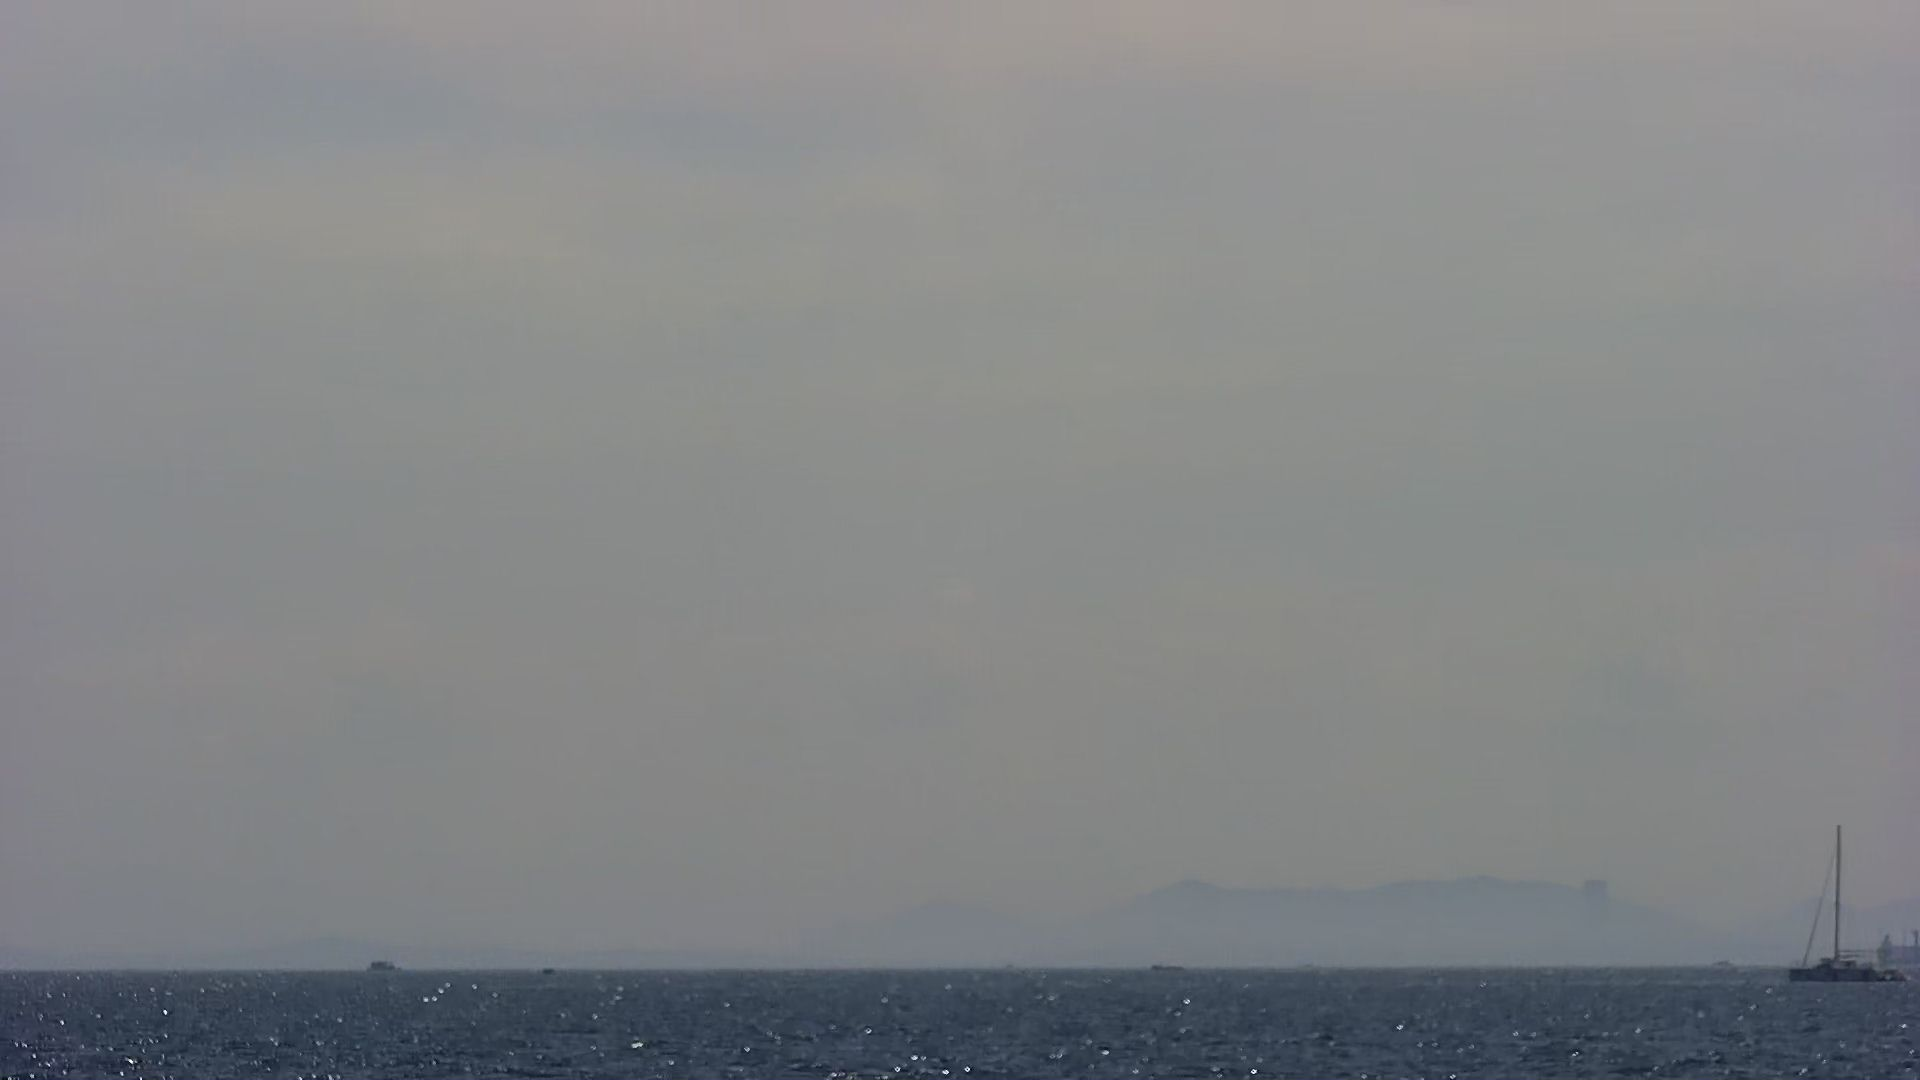boat: (1788, 818, 1919, 994)
